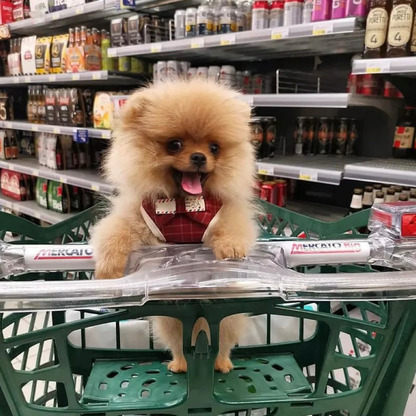Pomeranian: (89, 72, 282, 376)
